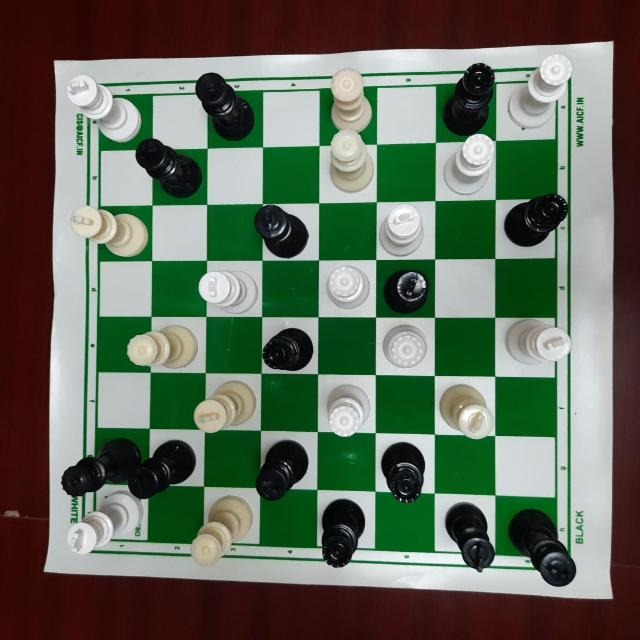black-king: (502, 501, 584, 590), (191, 67, 259, 148), (128, 136, 205, 203), (124, 432, 198, 500), (441, 496, 496, 576), (250, 440, 312, 505), (252, 199, 313, 260), (384, 265, 432, 315)
black-queen: (56, 430, 144, 499), (443, 49, 497, 134), (503, 188, 572, 252), (315, 496, 367, 571), (379, 437, 435, 503), (255, 325, 317, 373)
white-king: (63, 200, 154, 259), (60, 73, 145, 135), (62, 492, 141, 558), (194, 376, 260, 437), (497, 318, 577, 368), (196, 260, 266, 315), (437, 381, 497, 445), (381, 200, 435, 259)
white-queen: (503, 52, 573, 134), (187, 491, 253, 571), (321, 64, 380, 140), (121, 321, 199, 376), (321, 127, 377, 199), (441, 135, 498, 199), (373, 319, 430, 375), (320, 264, 381, 316), (323, 385, 369, 446)
